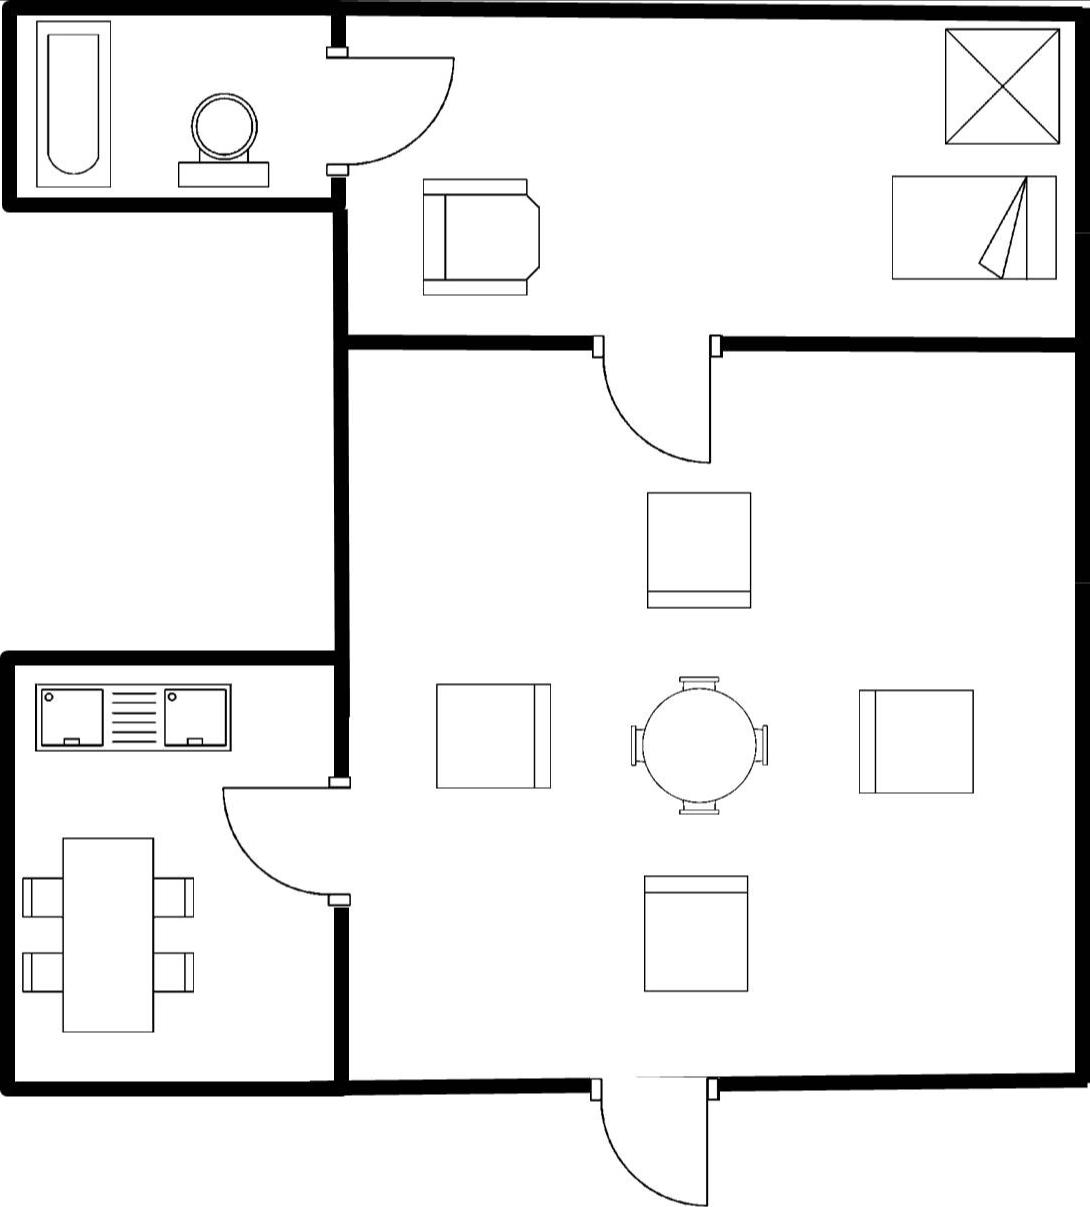sink: (29, 674, 239, 761)
